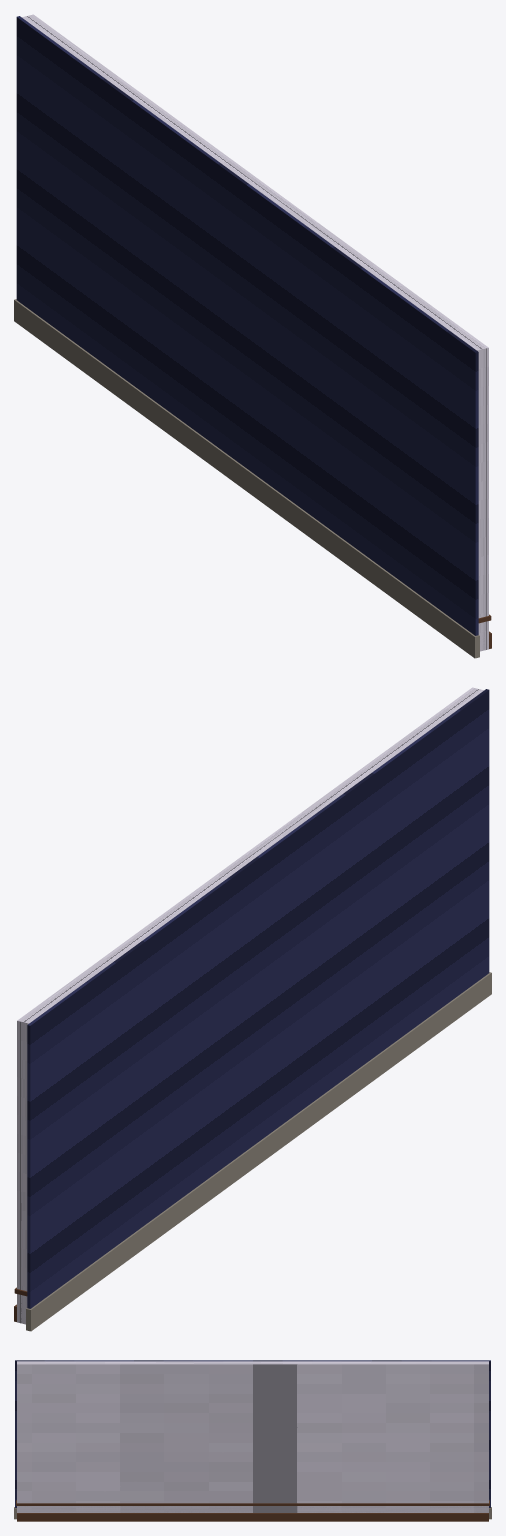
Rendered from left.glb.
3 views of the same model, one above another, from view 1: azimuth 30°, elevation 25°; view 2: azimuth 150°, elevation 25°; view 3: azimuth 270°, elevation 25° (orthographic). The views are drawn at different scales.
Parts seen in each view (by area): view 1: Box3, Box4, Box1; view 2: Box3, Box4, Box1; view 3: Box1, Box2, Box5, Box3, Box6.
Boxes of the visible parts, bbox=[...] form: Box3: bbox=[16, 16, 478, 635]; Box4: bbox=[14, 299, 479, 658]; Box1: bbox=[22, 14, 488, 651]; Box3: bbox=[27, 689, 489, 1308]; Box4: bbox=[26, 972, 491, 1331]; Box1: bbox=[17, 687, 483, 1324]; Box1: bbox=[17, 1361, 488, 1512]; Box2: bbox=[17, 1513, 488, 1521]; Box5: bbox=[17, 1506, 488, 1512]; Box3: bbox=[15, 1360, 490, 1507]; Box6: bbox=[16, 1500, 489, 1505].
Bounding box in the file's own units: 0.25 × 3.64 × 9.97.
Materials: 4 (2 with a texture image).
